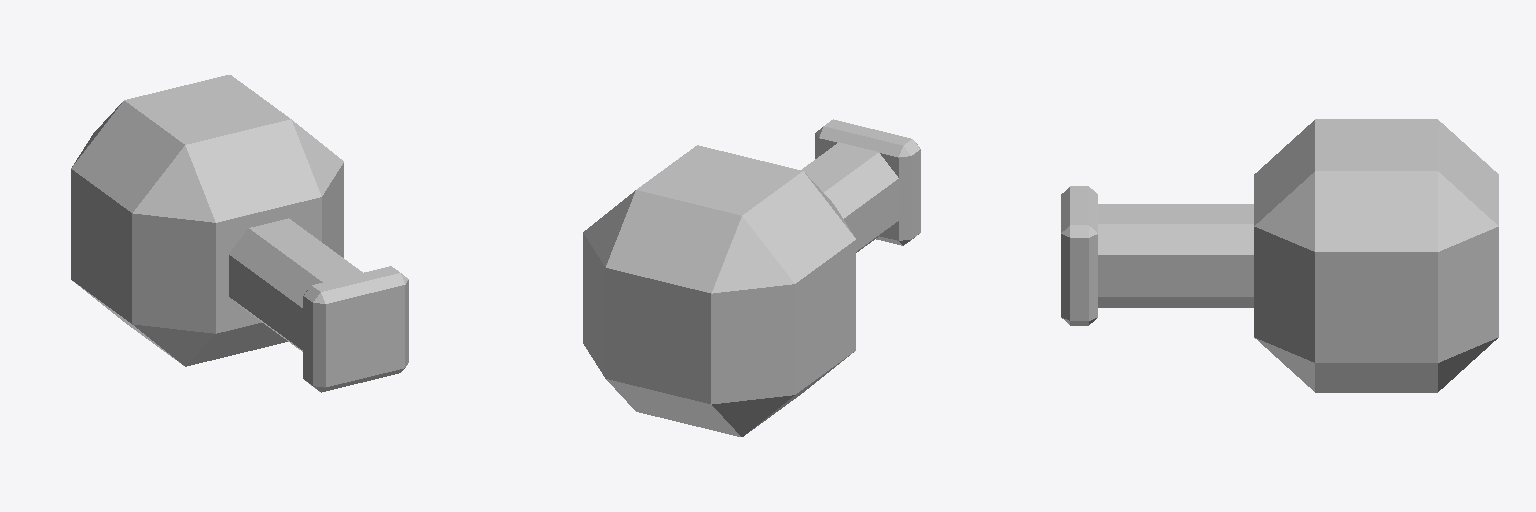
Rendered from Flask 2.obj.
3 renders of one model, left to right at view 1: azimuth 30°, elevation 25°; view 2: azimuth 150°, elevation 25°; view 3: azimuth 270°, elevation 25°, orthographic.
Parts seen in each view (by area): view 1: Flask_2:pCube11; view 2: Flask_2:pCube11; view 3: Flask_2:pCube11.
Part boxes in pixels (x1,y1,x2,y2): Flask_2:pCube11: (71, 75, 408, 392); Flask_2:pCube11: (583, 119, 920, 436); Flask_2:pCube11: (1061, 119, 1498, 392).
Size of the model in its own units: 1 by 1 by 1.79.